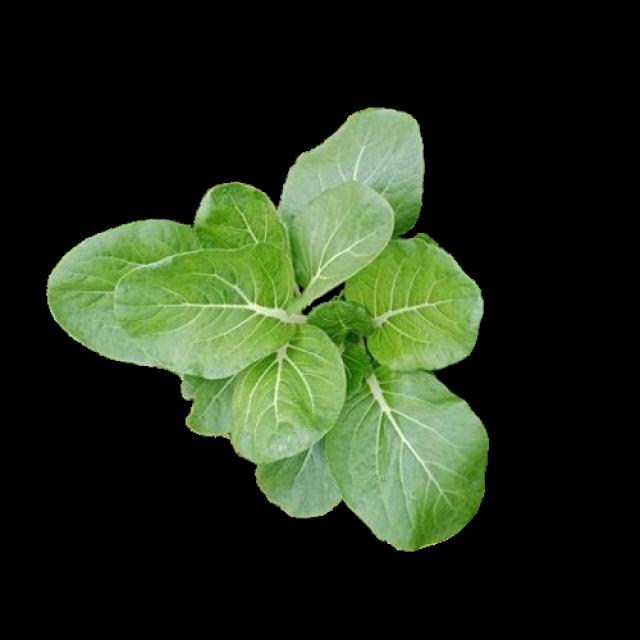healthy: (48, 108, 482, 549)
mature: (50, 110, 484, 552)
